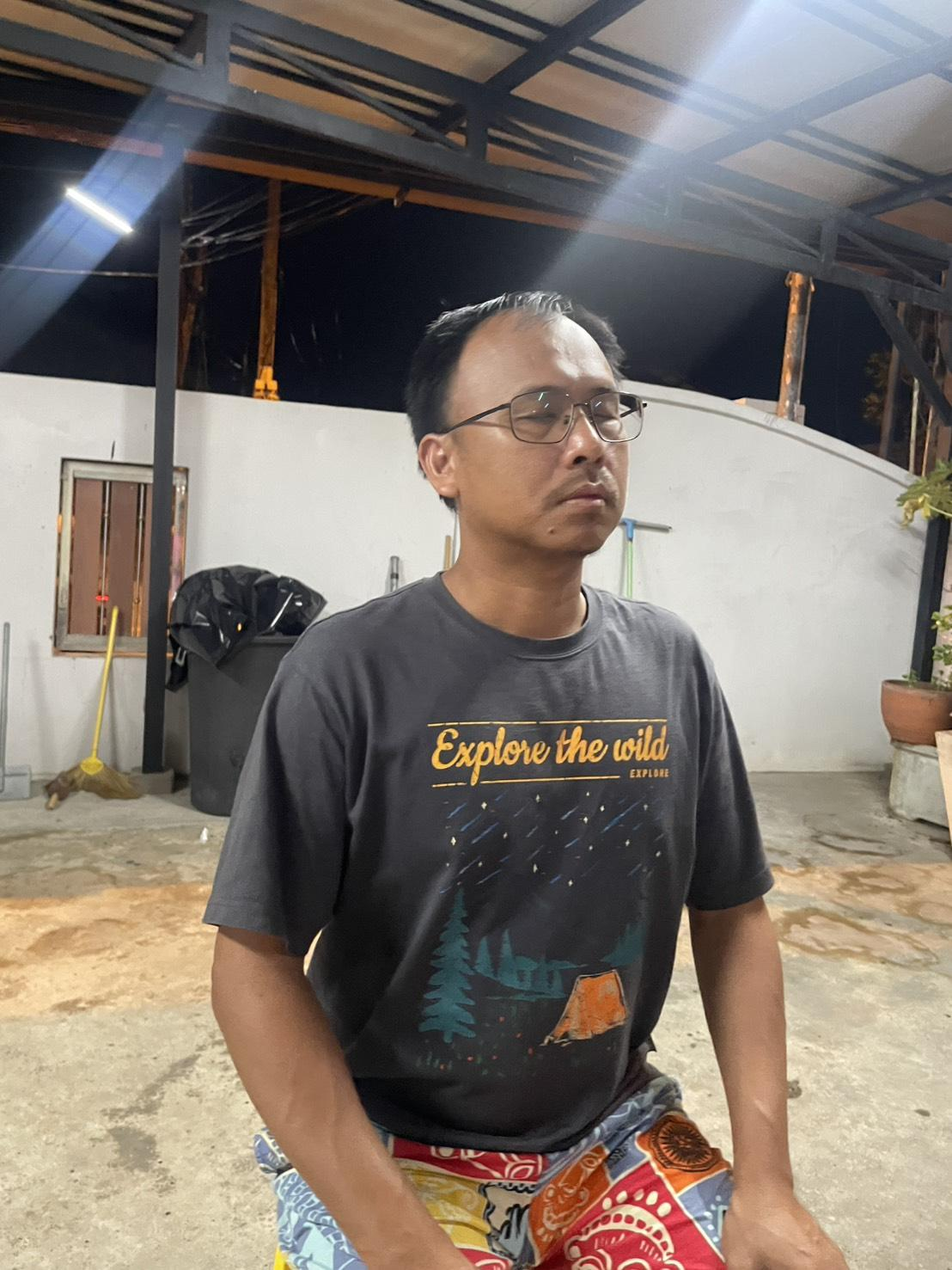GoodPosture: (204, 290, 846, 1269)
